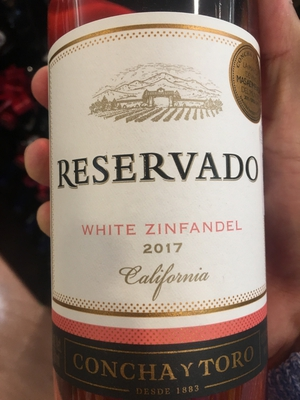reservado white zinfandel: (48, 4, 274, 397)
